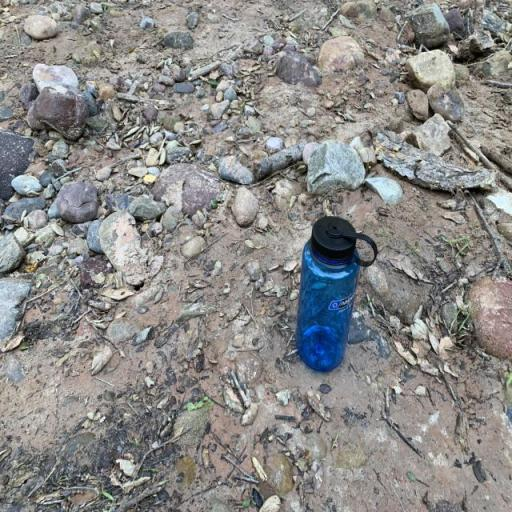bottle: (294, 216, 377, 372)
